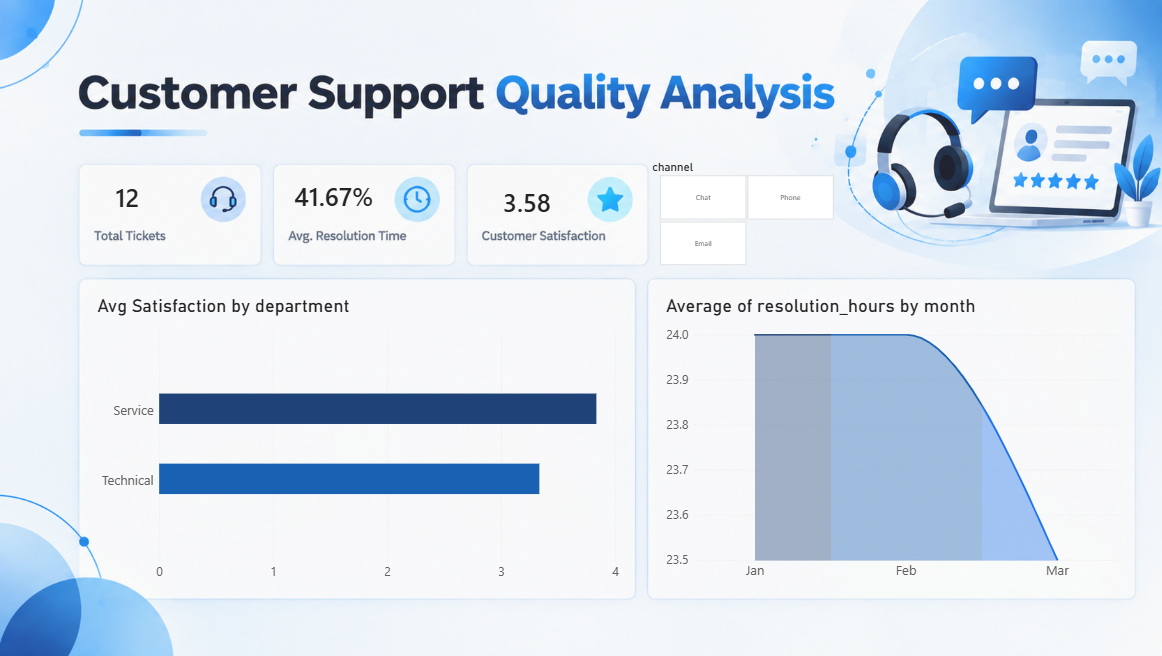

This screenshot's page, from the dashboard's own definition file:
{"tool":"powerbi","page":{"name":"Page 1","canvas":[1920,1080],"ordinal":0},"visuals":[{"type":"card","fields":{"Values":["Measures Table.Ticket Count"]},"box":[83.3,40,280,200],"z":0},{"type":"card","fields":{"Values":["Measures Table.SLA Breach Rate"]},"box":[413.3,43.3,280,196.7],"z":1000},{"type":"card","fields":{"Values":["Measures Table.Avg Satisfaction"]},"box":[736.7,46.7,280,193.3],"z":2000},{"type":"clusteredBarChart","fields":{"Category":["teams.department"],"Y":["Measures Table.Avg Satisfaction"]},"box":[83.3,283.3,933.3,760],"z":3000},{"type":"lineChart","fields":{"Category":["tickets.month"],"Y":["Avg(tickets.resolution_hours)"]},"box":[1063.3,350,810,693.3],"z":4000},{"type":"slicer","fields":{"Values":["tickets.channel"]},"box":[1063.3,46.7,810,276.7],"z":4001}]}

Visuals, with their boxes in screenshot pixels (x1, y1, x2, y2), scaled from the page's 1920x1080 canvas onto the 1162x656 screenshot:
card - Measures Table.Ticket Count: {"left": 50, "top": 24, "right": 220, "bottom": 146}
card - Measures Table.SLA Breach Rate: {"left": 250, "top": 26, "right": 420, "bottom": 146}
card - Measures Table.Avg Satisfaction: {"left": 446, "top": 28, "right": 615, "bottom": 146}
clusteredBarChart - teams.department x Measures Table.Avg Satisfaction: {"left": 50, "top": 172, "right": 615, "bottom": 634}
lineChart - tickets.month x Avg(tickets.resolution_hours): {"left": 644, "top": 213, "right": 1134, "bottom": 634}
slicer - tickets.channel: {"left": 644, "top": 28, "right": 1134, "bottom": 196}
